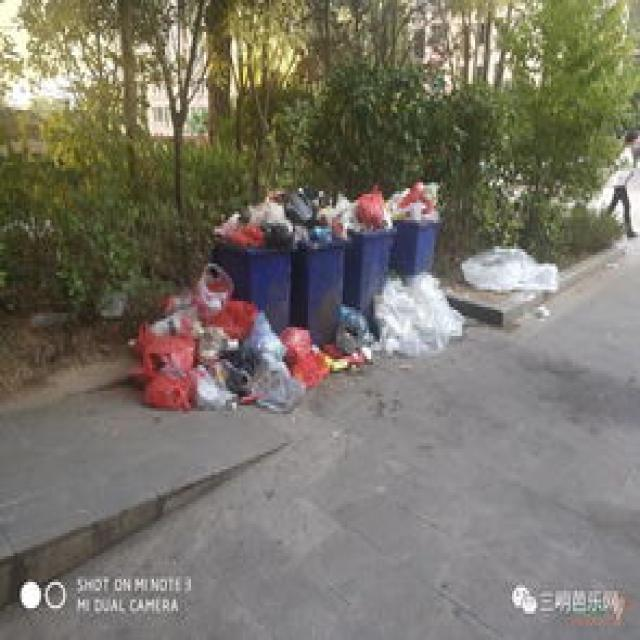garbage: (126, 261, 462, 411), (460, 240, 555, 290)
overflow: (210, 194, 291, 324), (293, 188, 351, 345), (343, 182, 395, 307), (391, 180, 438, 272)
